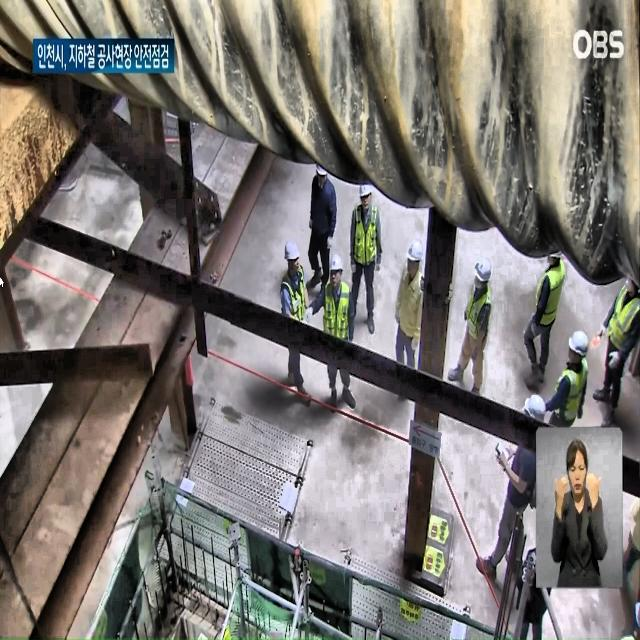safety_helmet: (285, 221, 316, 270), (528, 384, 551, 424), (399, 236, 425, 270), (569, 327, 590, 362), (469, 256, 491, 286), (352, 177, 373, 201), (331, 256, 348, 280)
safety_jacket: (349, 215, 399, 295), (322, 286, 359, 372), (275, 278, 316, 350), (534, 268, 566, 359), (608, 286, 640, 371), (461, 284, 500, 352), (555, 358, 588, 433)
